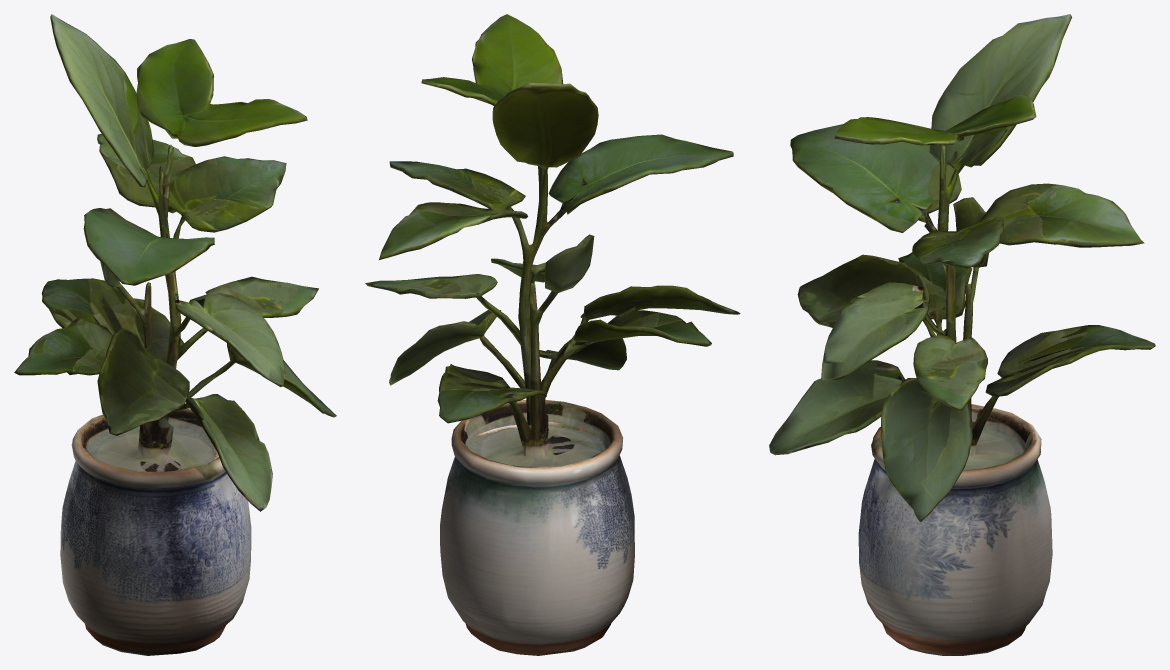
3 renders of one model, left to right at view 1: azimuth 30°, elevation 25°; view 2: azimuth 150°, elevation 25°; view 3: azimuth 270°, elevation 25°, orthographic. The views are drawn at different scales.
Parts seen in each view (by area): view 1: Mesh1.0; view 2: Mesh1.0; view 3: Mesh1.0.
Part boxes in pixels (x1,y1,x2,y2): Mesh1.0: (14,14,336,655); Mesh1.0: (365,14,740,655); Mesh1.0: (769,14,1155,655).
Size of the model in its own units: 116 by 202 by 120.
1 material, 1 textured.
